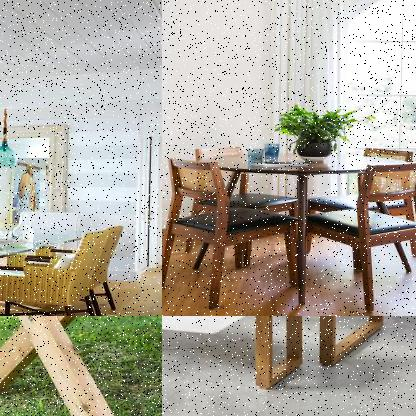table: (171, 144, 415, 295), (0, 316, 161, 415), (162, 316, 393, 371), (0, 213, 115, 315)
